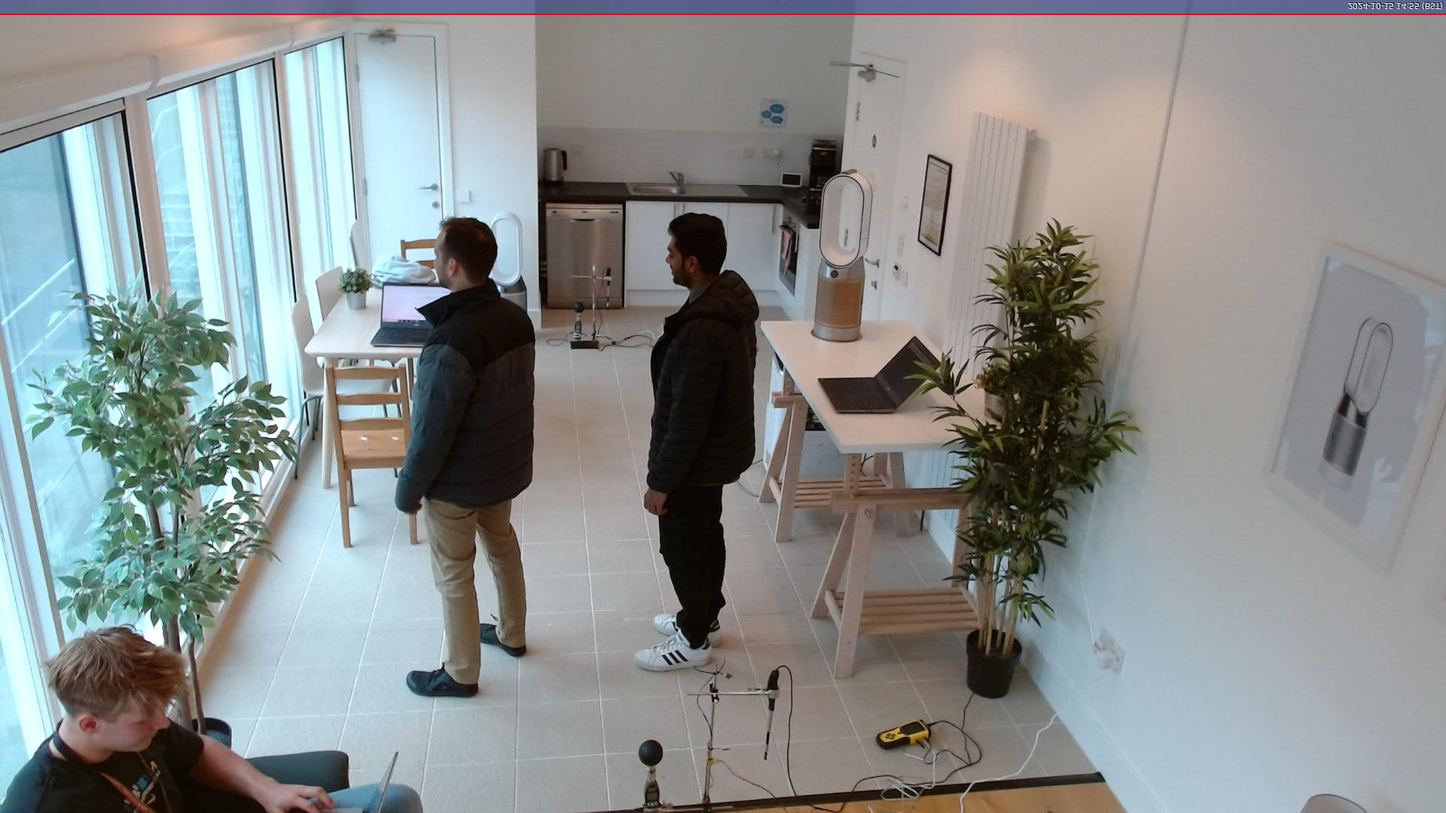coat: (395, 281, 540, 515), (642, 268, 759, 492)
short sleeve shirt: (0, 708, 209, 813)
trousers: (422, 486, 530, 687), (654, 474, 728, 642), (270, 780, 423, 813)
